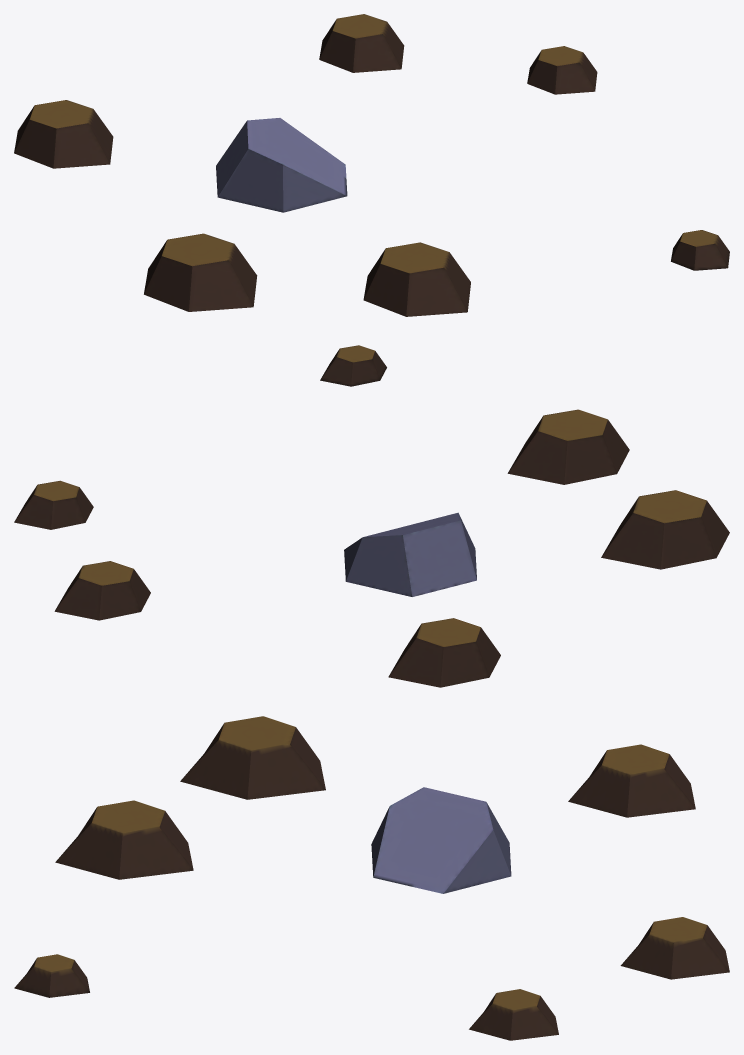
The model's file is tile_wood_6_ruin_lod1.fbx.
The picture shows the model from 3 angles, top to bottom: view 1: azimuth 30°, elevation 25°; view 2: azimuth 150°, elevation 25°; view 3: azimuth 270°, elevation 25°; orthographic projection. The views are drawn at different scales.
Parts seen in each view (by area): view 1: wood_6_ruin_lod1; view 2: wood_6_ruin_lod1; view 3: wood_6_ruin_lod1.
Part boxes in pixels (x1,y1,x2,y2): wood_6_ruin_lod1: (14, 14, 729, 316); wood_6_ruin_lod1: (14, 345, 729, 687); wood_6_ruin_lod1: (14, 716, 729, 1040).
Bounding box in the file's own units: 0.0462 × 0.00378 × 0.0473.
